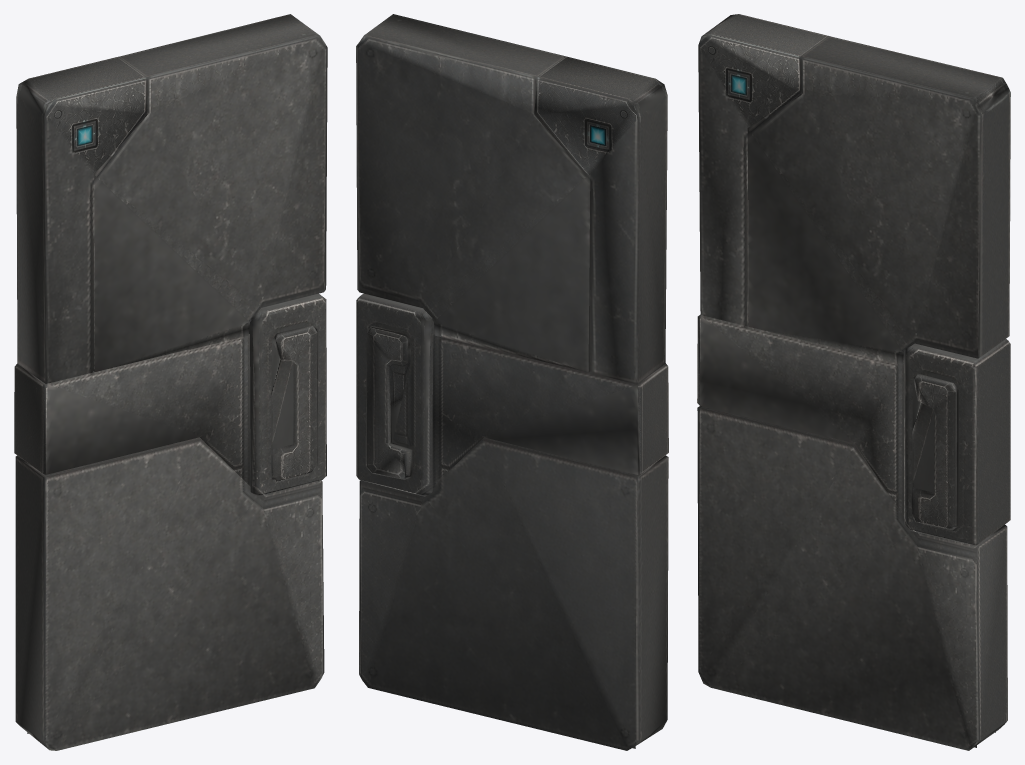
File: Door1.glb
3 renders of one model, left to right at view 1: azimuth 30°, elevation 25°; view 2: azimuth 150°, elevation 25°; view 3: azimuth 330°, elevation 25°, orthographic.
Size of the model in its own units: 0.9141 by 2 by 0.2578.
Materials: 1 (1 with a texture image).
